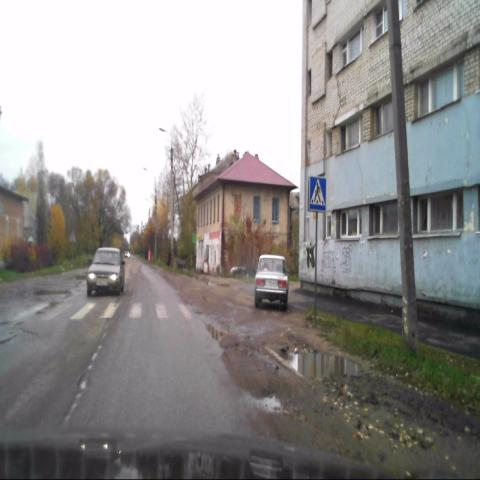5_19_1: (308, 176, 327, 212)
